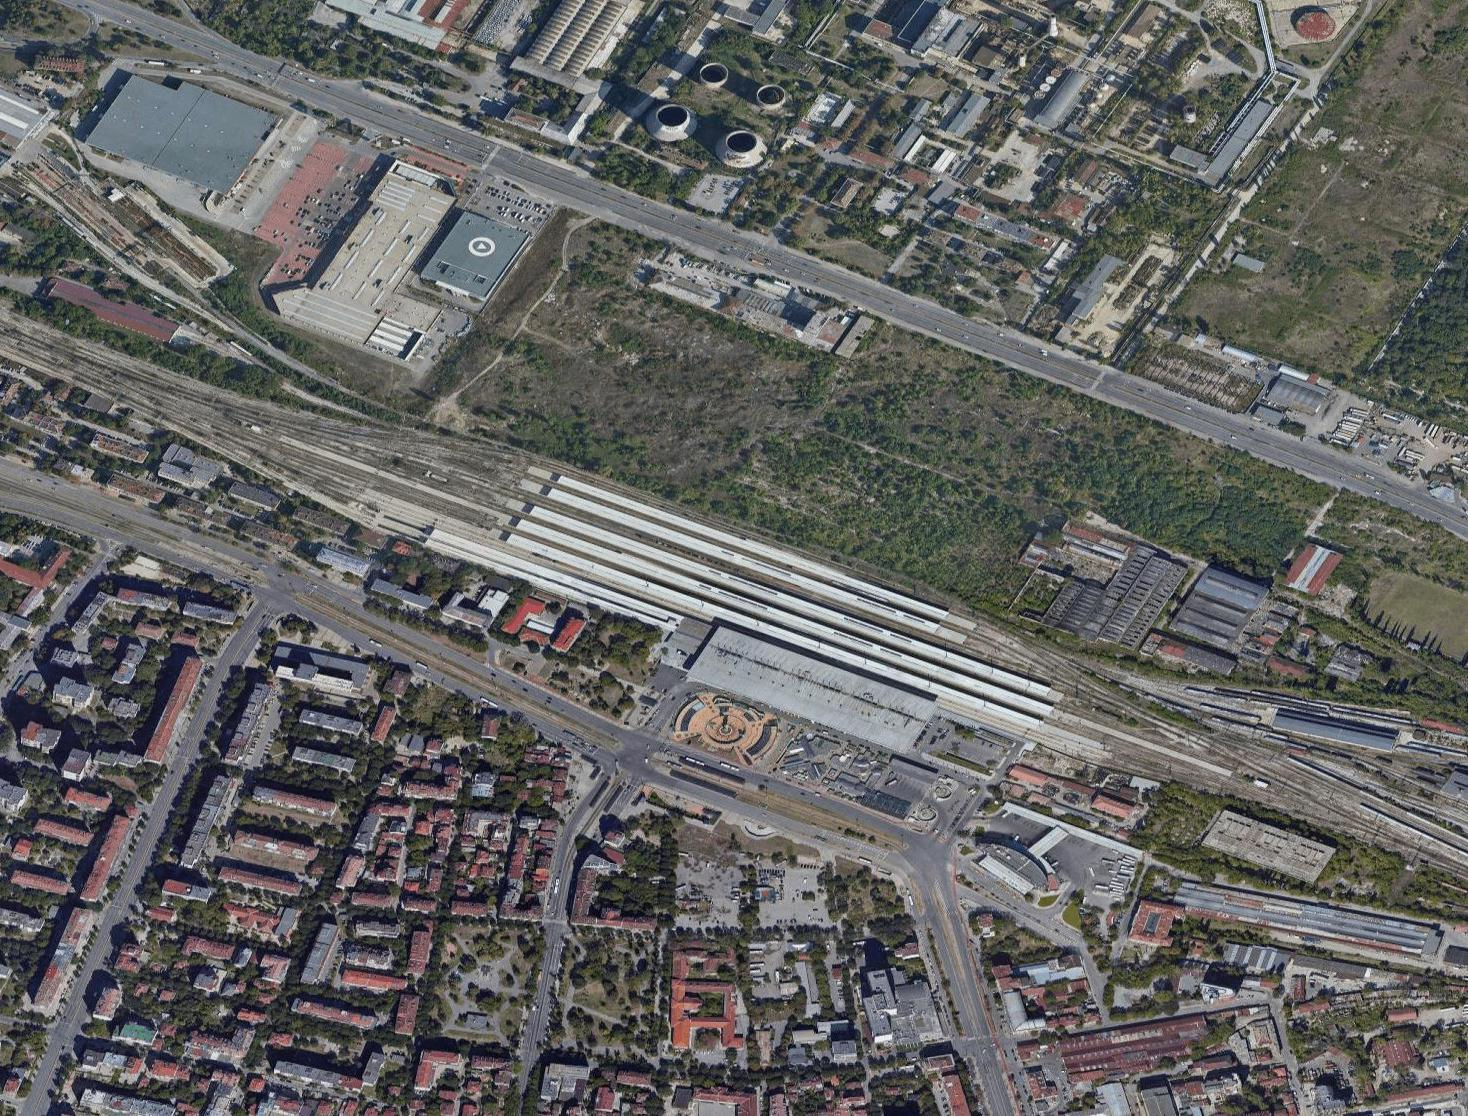train_station: (442, 429, 981, 763)
